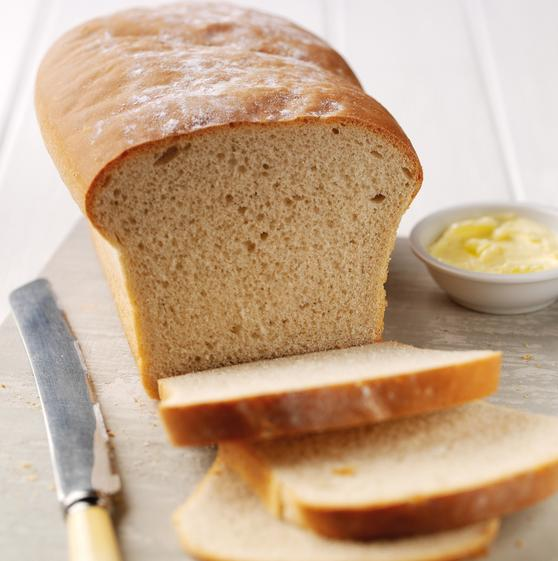white_bread: (42, 2, 426, 350)
